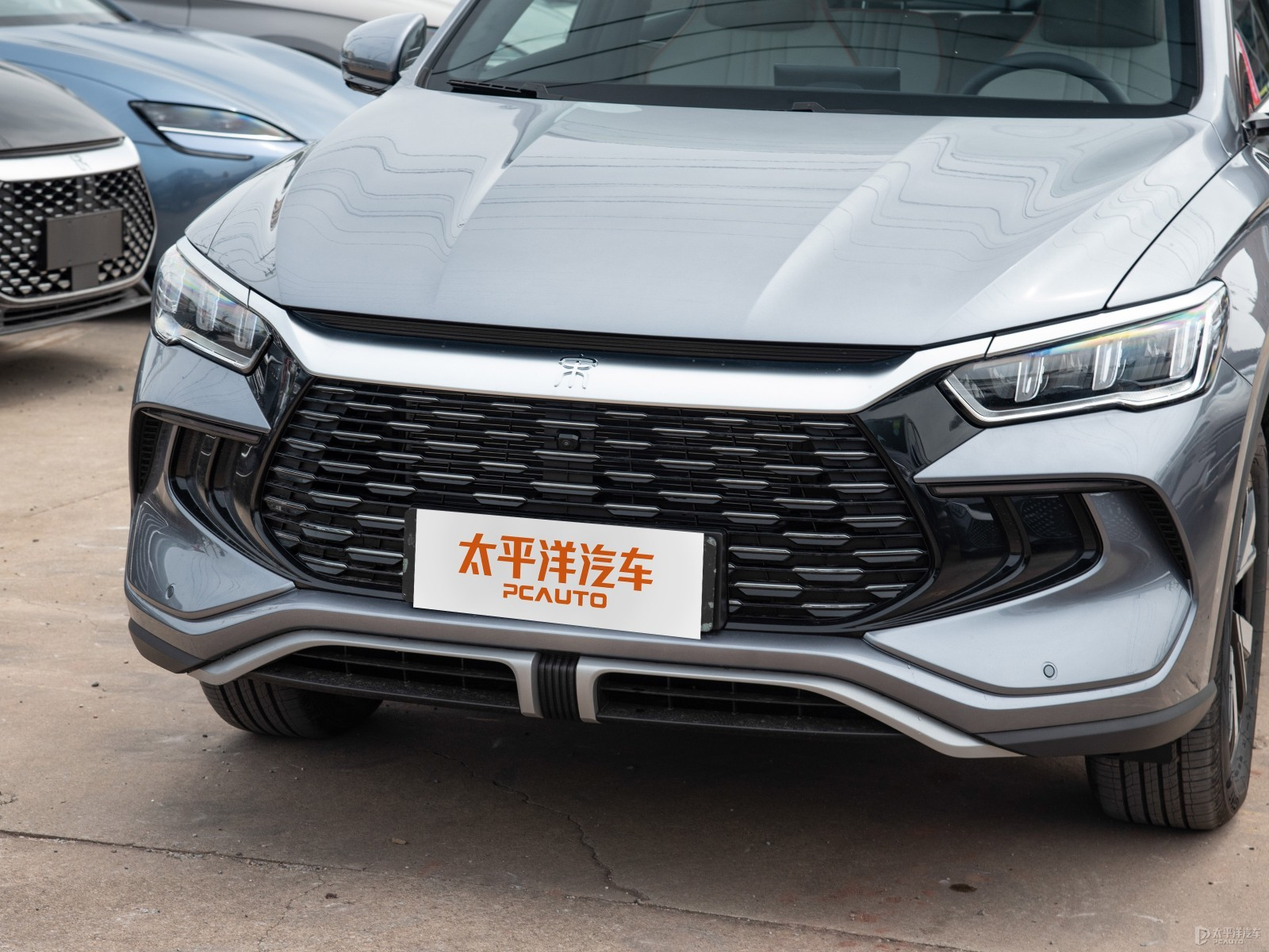BYD Song: (554, 355, 597, 389)
